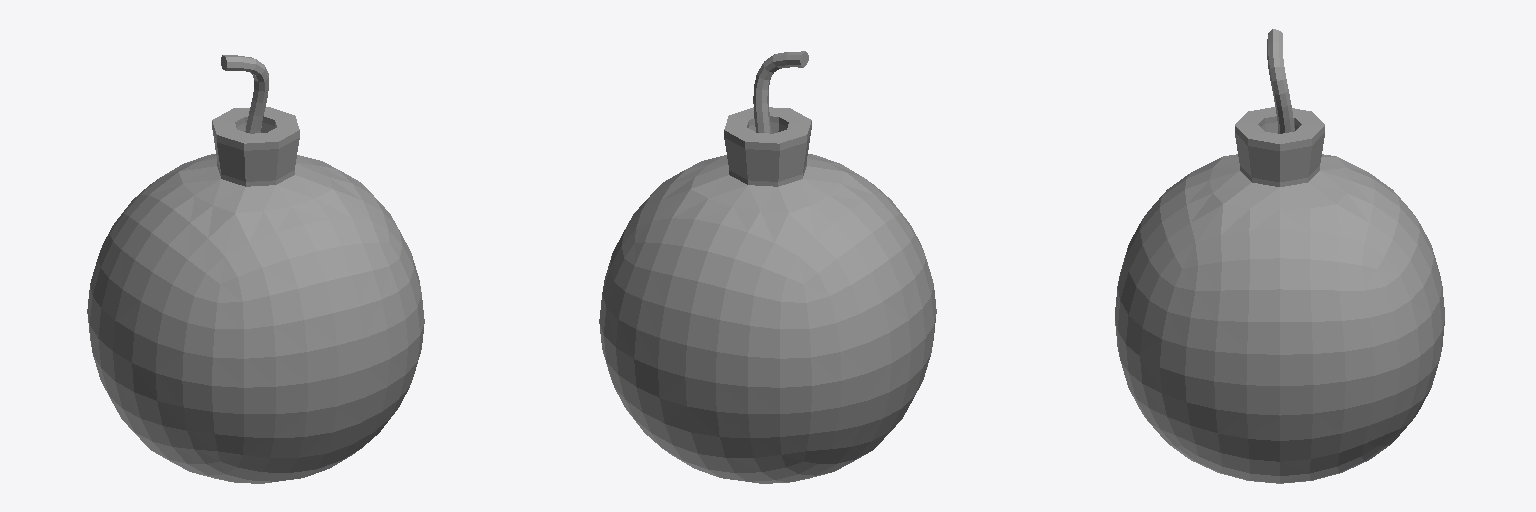
The model's file is bomb.obj.
3 renders of one model, left to right at view 1: azimuth 30°, elevation 25°; view 2: azimuth 150°, elevation 25°; view 3: azimuth 270°, elevation 25°, orthographic.
Visible parts, largest first — view 1: Bomb; view 2: Bomb; view 3: Bomb.
Boxes of the visible parts, <box> form: Bomb: <box>87,55,424,483</box>; Bomb: <box>599,51,936,483</box>; Bomb: <box>1115,29,1444,483</box>.
Bounding box in the file's own units: 0.5731 × 0.8044 × 0.5731.